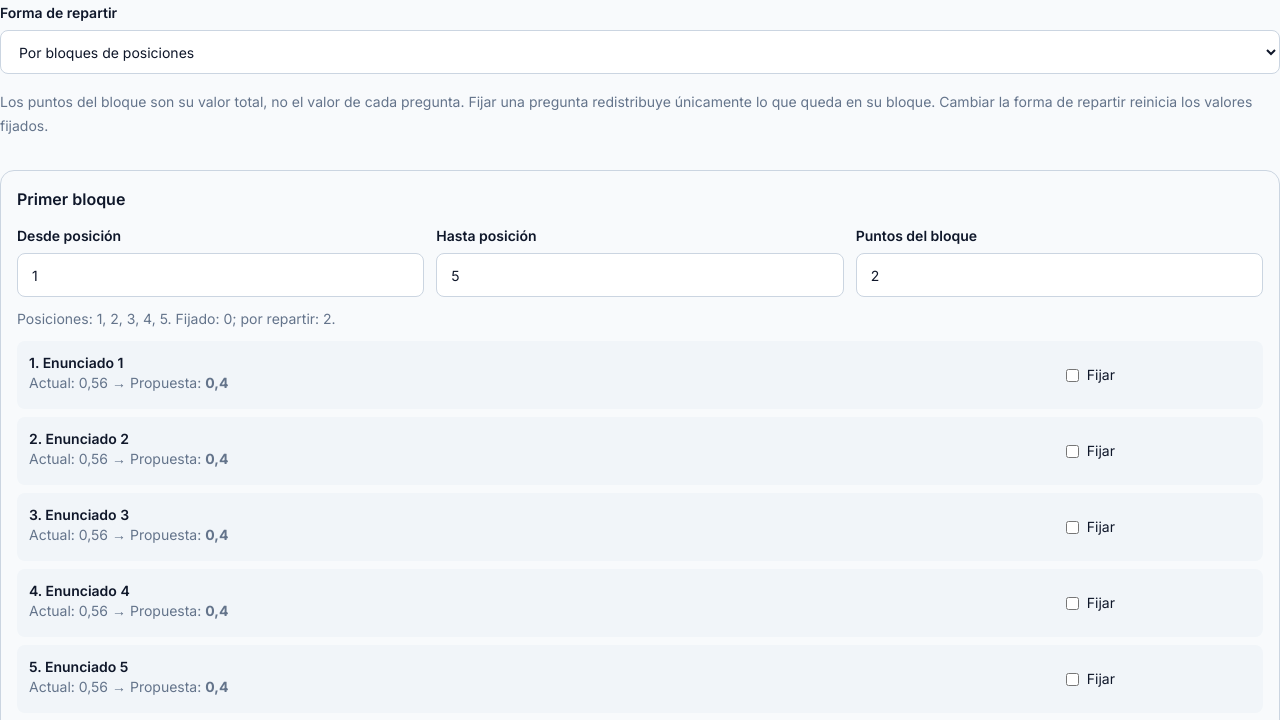
Test: 137 usa secciones existentes, sin confundir preguntas con el mismo número
The image size is (1280, 720).
Select "Por secciones del documento" in the dropdown labelled "Forma de repartir" at coordinates (640, 52), box [0,30,1279,74]
(page scrolled)
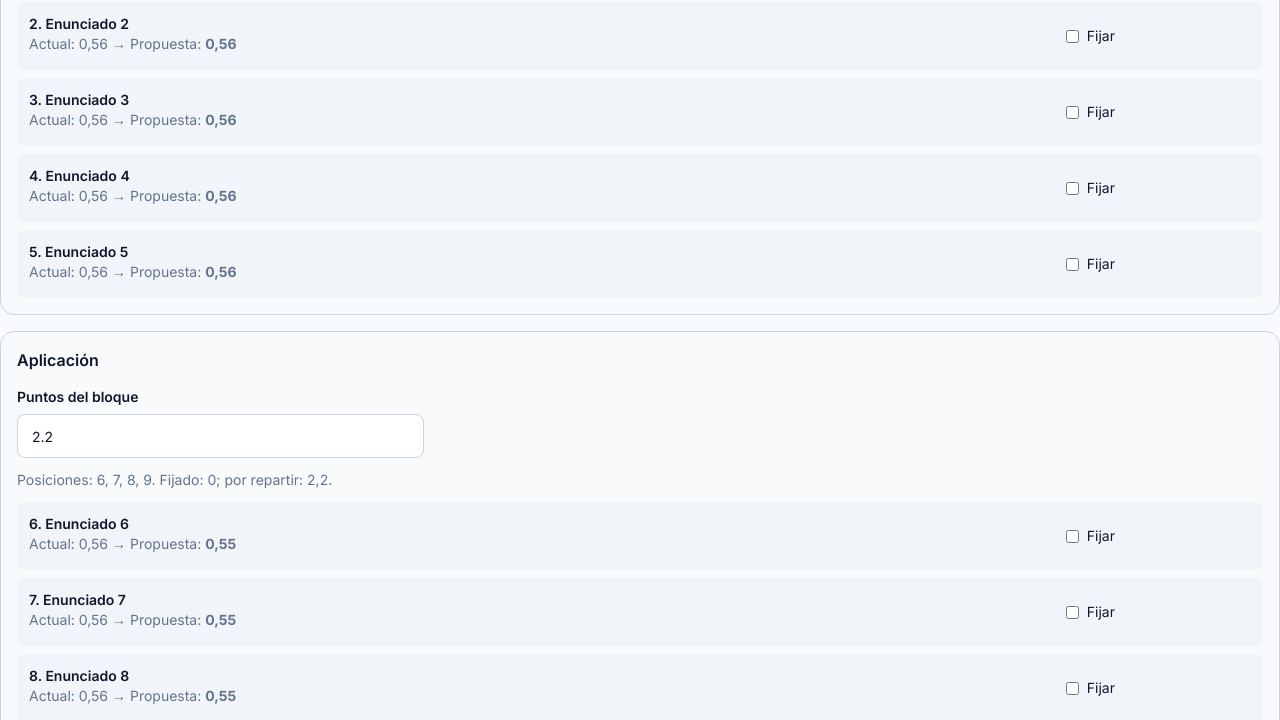
Result: the heading "Aplicación" is shown at [17,350,99,370]
